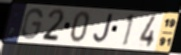0: (69, 10, 91, 45)
1: (122, 13, 136, 47)
2: (41, 8, 66, 43)
4: (138, 15, 157, 49)
G: (20, 7, 44, 41)
J: (92, 13, 114, 45)
